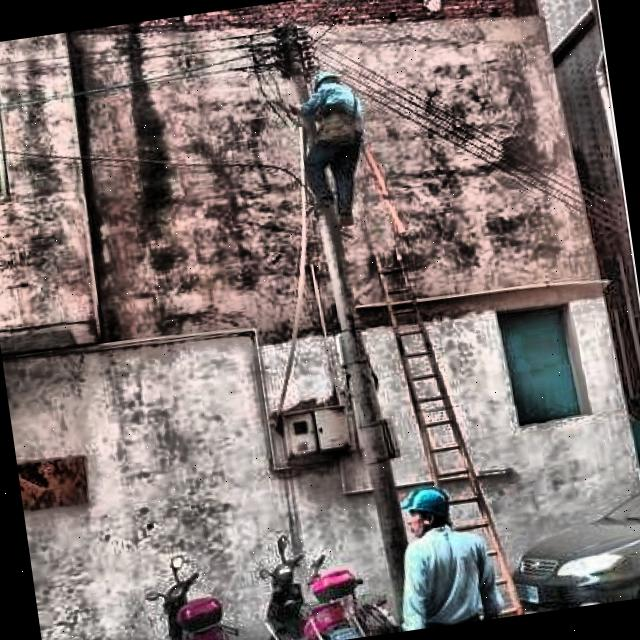helmet: (401, 480, 455, 540), (306, 64, 346, 100)
